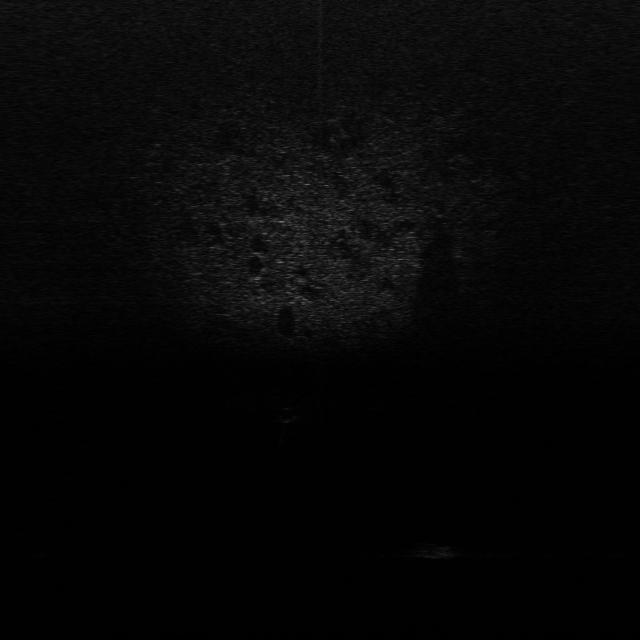ball: (269, 406, 302, 424)
metal bucket: (410, 538, 456, 561)
